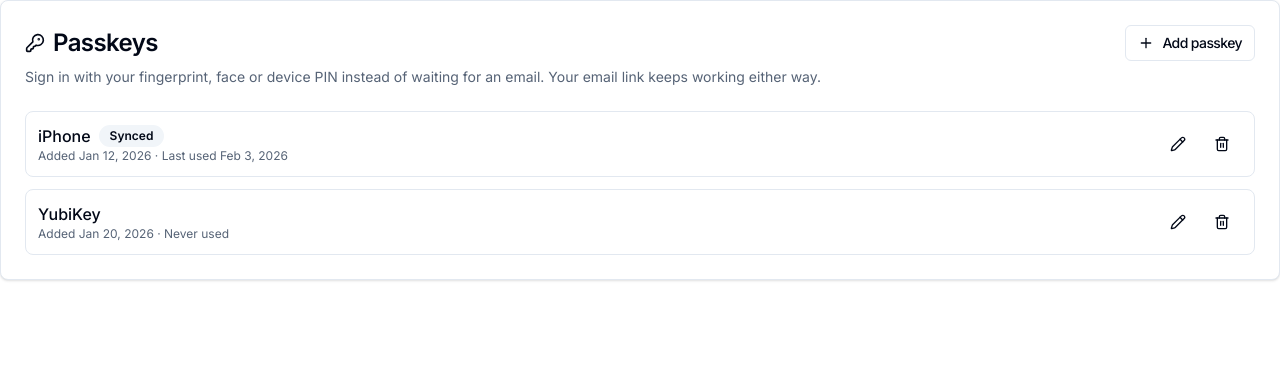
PasskeysCard › adds a passkey and re-reads the list
The image size is (1280, 376).
Check: the text "iPhone" is shown, box [38,124,91,148]
Click the button "Add passkey".
click(1190, 43)  # box [1125,25,1255,61]
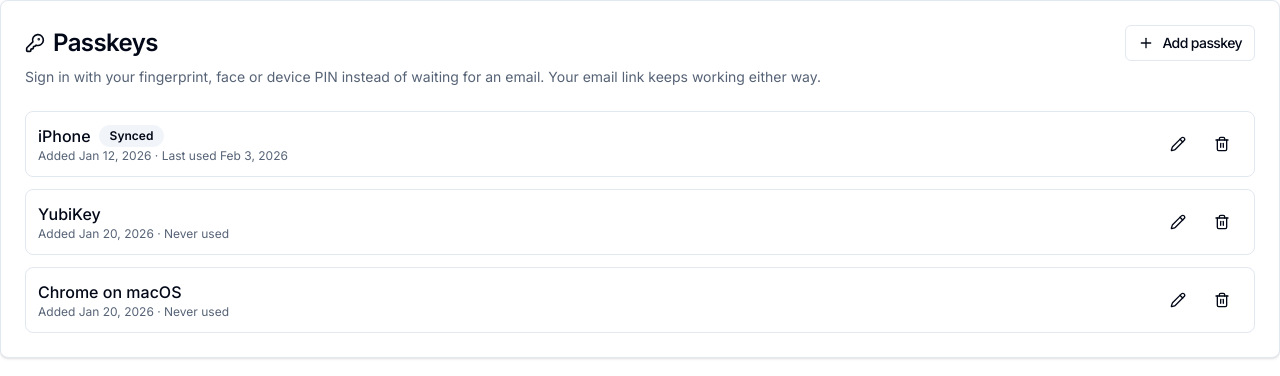
Check: the text "Chrome on macOS" is shown, box [38,280,182,304]
